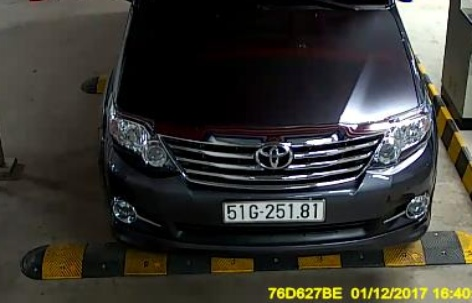plate: (217, 193, 326, 226)
